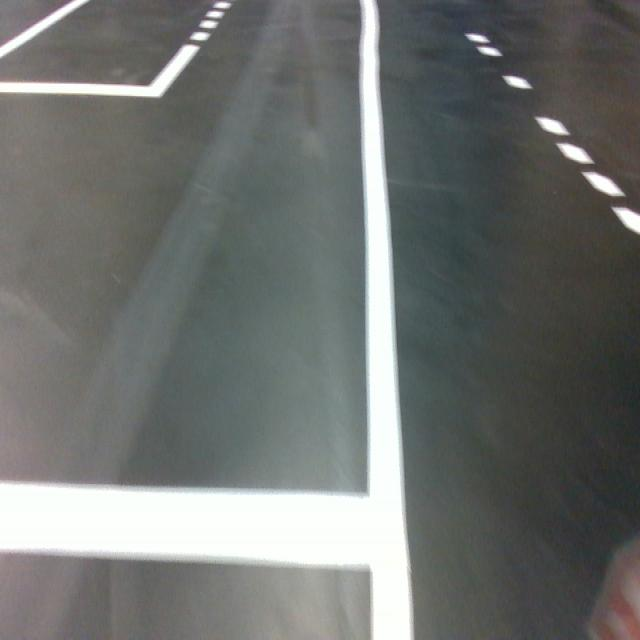stop-sign: (582, 532, 640, 640)
